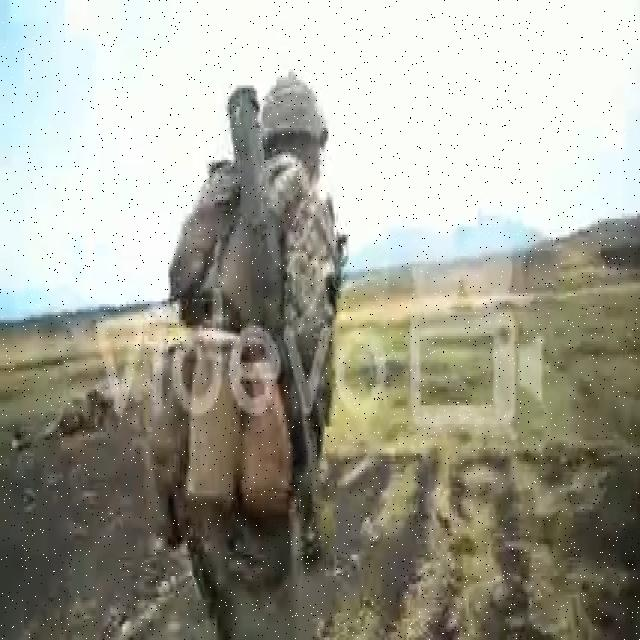bazooka: (225, 81, 329, 575)
